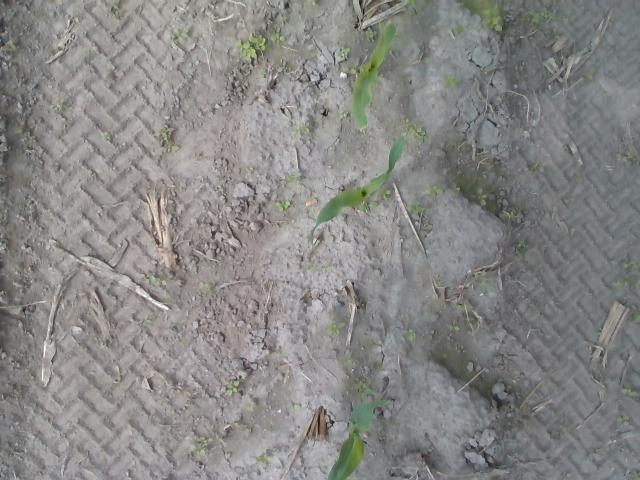Maize: (304, 127, 414, 248), (347, 14, 398, 129), (326, 398, 386, 480)
Weeds: (457, 0, 503, 34), (234, 30, 266, 62), (159, 126, 182, 154), (525, 8, 556, 23), (190, 436, 208, 458), (406, 124, 426, 142), (326, 318, 344, 338), (470, 188, 487, 208), (350, 380, 372, 395), (613, 278, 640, 290), (408, 200, 426, 216), (424, 184, 444, 197), (342, 59, 358, 75), (404, 0, 432, 9), (292, 122, 311, 134), (225, 380, 239, 396), (528, 160, 544, 174), (145, 272, 161, 286), (172, 27, 188, 41), (442, 76, 460, 88), (339, 352, 354, 366), (336, 46, 352, 59), (364, 27, 378, 41), (446, 318, 460, 332), (617, 412, 631, 426), (286, 402, 302, 414), (514, 238, 526, 254), (623, 260, 640, 271), (286, 172, 303, 183), (270, 32, 286, 42), (456, 302, 472, 312), (623, 389, 640, 398), (255, 454, 272, 463), (379, 189, 392, 200), (277, 201, 290, 211), (452, 25, 463, 36), (100, 131, 112, 140), (6, 40, 16, 50), (409, 328, 416, 341), (16, 127, 24, 137), (306, 0, 318, 6)
